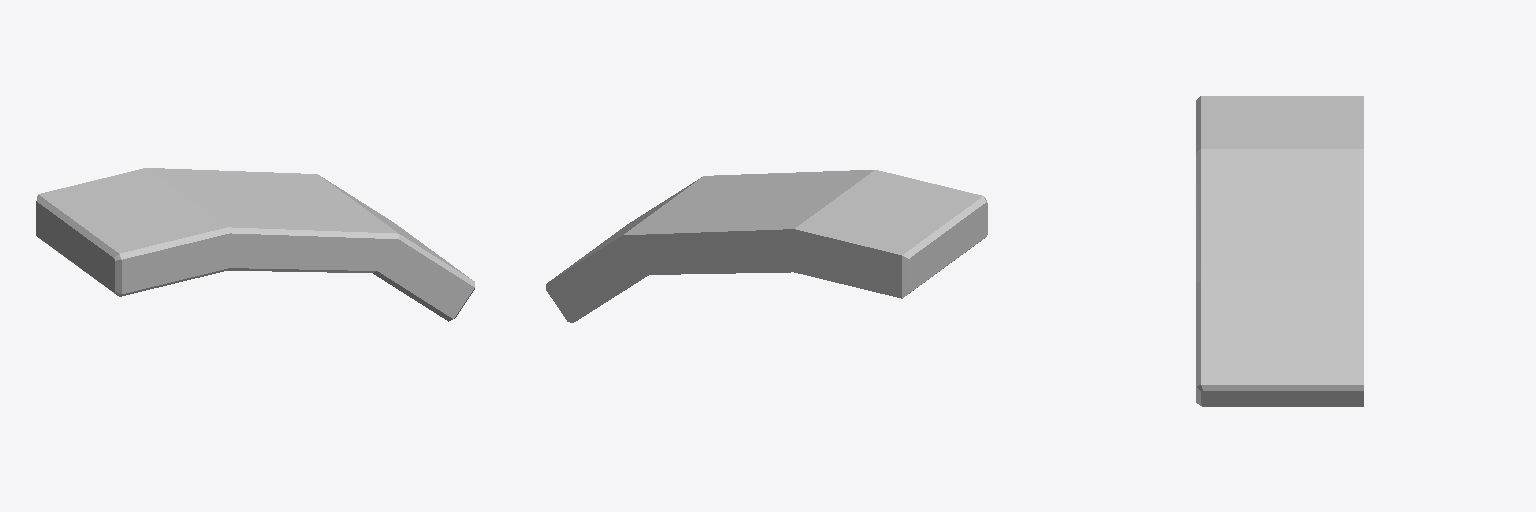
The model's file is wall.obj.
3 views of the same model, side by side, from view 1: azimuth 30°, elevation 25°; view 2: azimuth 150°, elevation 25°; view 3: azimuth 270°, elevation 25° (orthographic).
Visible parts, largest first — view 1: Box01; view 2: Box01; view 3: Box01.
Part boxes in pixels (bbox=[...]): Box01: bbox=[36, 168, 474, 321]; Box01: bbox=[546, 170, 987, 322]; Box01: bbox=[1196, 96, 1363, 406].
Bounding box in the file's own units: 17.41 × 6.84 × 7.